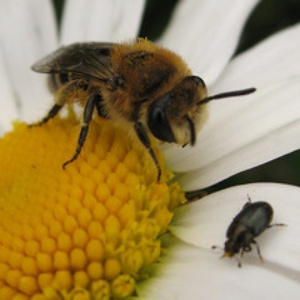bee: (30, 37, 254, 187)
